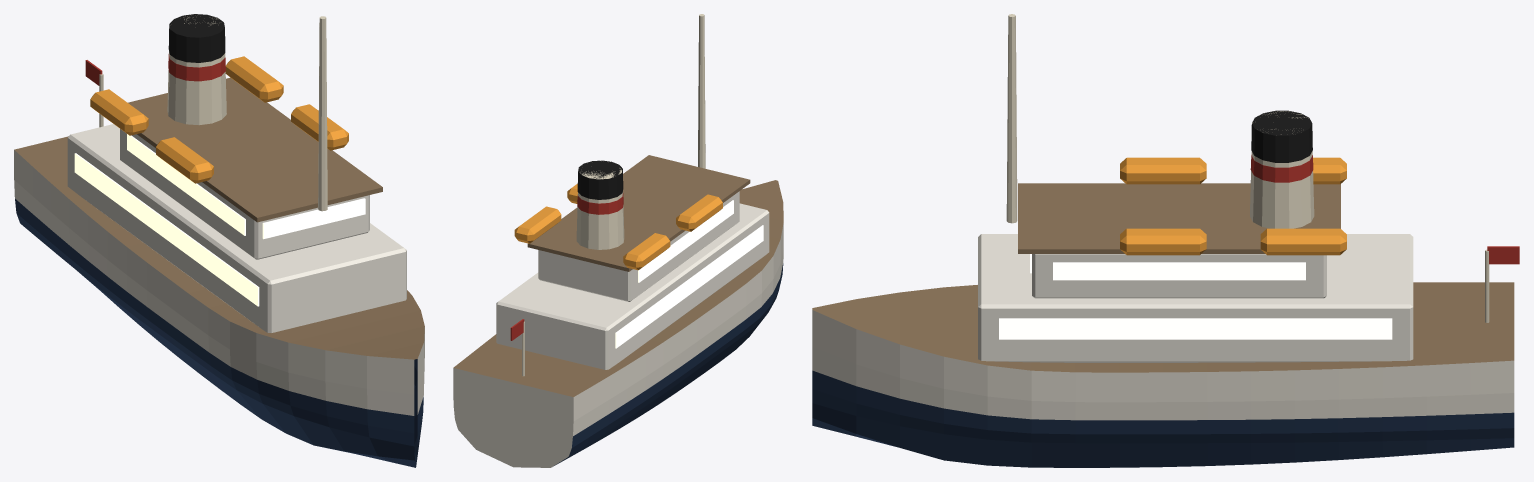
Rendered from ferry.fbx.
3 views of the same model, side by side, from view 1: azimuth 30°, elevation 25°; view 2: azimuth 150°, elevation 25°; view 3: azimuth 270°, elevation 25° (orthographic). The views are drawn at different scales.
Parts seen in each view (by area): view 1: Hull, SaloonLower, Body, SaloonUpper, WinLow1, Funnel, FunnelTop, WinUp1, WinBridge, Boat10, Boat-10, Boat11 (+2 smaller); view 2: Hull, SaloonLower, Body, SaloonUpper, WinLow1, Funnel, FunnelTop, WinUp1, Boat10, Boat-10, Boat11, FunnelBand; view 3: Hull, SaloonLower, Body, SaloonUpper, WinLow-1, WinUp-1, Funnel, FunnelTop, Boat11, Boat-10, Boat-11, FunnelBand (+1 smaller).
Part boxes in pixels (left/top/right/bottom): Hull: left=14, top=136, right=424, bottom=467; SaloonLower: left=67, top=124, right=406, bottom=332; Body: left=99, top=16, right=382, bottom=222; SaloonUpper: left=120, top=129, right=369, bottom=259; WinLow1: left=74, top=153, right=259, bottom=306; Funnel: left=167, top=16, right=226, bottom=125; FunnelTop: left=168, top=14, right=225, bottom=62; WinUp1: left=127, top=134, right=245, bottom=235; WinBridge: left=262, top=198, right=365, bottom=239; Boat10: left=90, top=89, right=148, bottom=135; Boat-10: left=225, top=56, right=283, bottom=102; Boat11: left=156, top=137, right=213, bottom=183; Hull: left=453, top=180, right=783, bottom=467; SaloonLower: left=496, top=203, right=769, bottom=369; Body: left=522, top=14, right=750, bottom=376; SaloonUpper: left=538, top=191, right=739, bottom=301; WinLow1: left=615, top=225, right=763, bottom=348; Funnel: left=576, top=160, right=624, bottom=249; FunnelTop: left=577, top=160, right=623, bottom=199; WinUp1: left=638, top=200, right=733, bottom=282; Boat10: left=623, top=233, right=670, bottom=270; Boat-10: left=514, top=206, right=561, bottom=243; Boat11: left=676, top=194, right=722, bottom=231; FunnelBand: left=577, top=193, right=623, bottom=214; Hull: left=812, top=282, right=1514, bottom=467; SaloonLower: left=978, top=234, right=1413, bottom=362; Body: left=1006, top=14, right=1489, bottom=322; SaloonUpper: left=1032, top=254, right=1326, bottom=298; WinLow-1: left=999, top=318, right=1392, bottom=339; WinUp-1: left=1053, top=262, right=1305, bottom=280; Funnel: left=1250, top=111, right=1314, bottom=228; FunnelTop: left=1251, top=110, right=1312, bottom=162; Boat11: left=1120, top=157, right=1206, bottom=184; Boat-10: left=1260, top=228, right=1346, bottom=255; Boat-11: left=1120, top=228, right=1206, bottom=255; FunnelBand: left=1250, top=155, right=1313, bottom=182.
Size of the model in its own units: 3.9 by 9.1 by 13.1.
